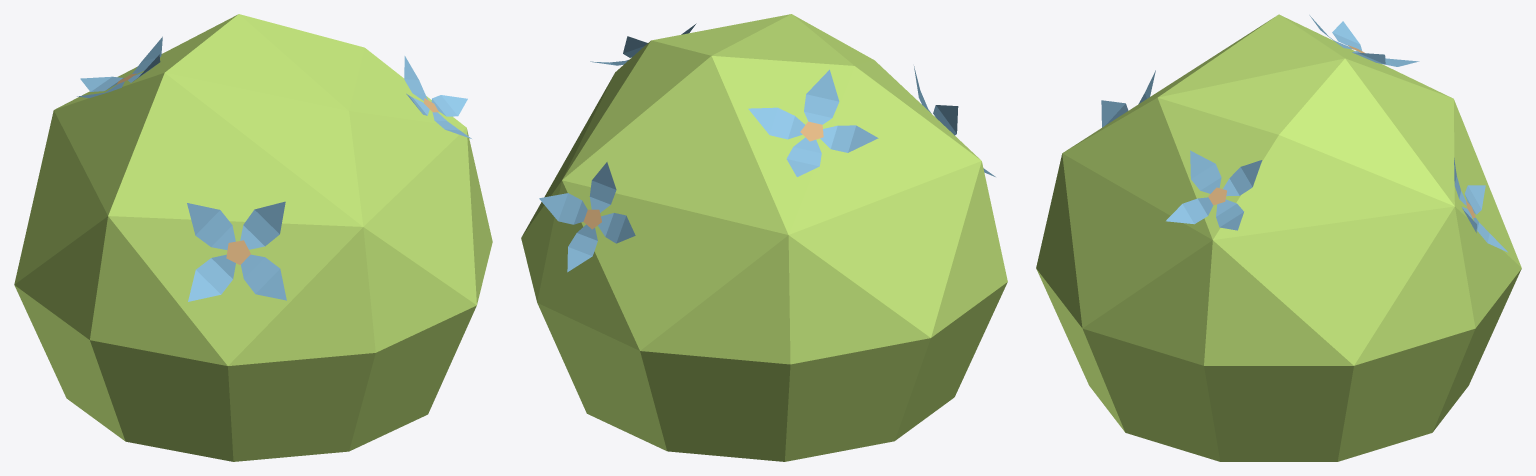
The model's file is FlowerBush_h_m_01.fbx.
3 views of the same model, side by side, from view 1: azimuth 30°, elevation 25°; view 2: azimuth 150°, elevation 25°; view 3: azimuth 270°, elevation 25° (orthographic). The views are drawn at different scales.
Parts seen in each view (by area): view 1: FlowerBush_h_m_01_LOD0; view 2: FlowerBush_h_m_01_LOD0; view 3: FlowerBush_h_m_01_LOD0.
Part boxes in pixels (x1,y1,x2,y2): FlowerBush_h_m_01_LOD0: [14, 14, 492, 461]; FlowerBush_h_m_01_LOD0: [521, 14, 1007, 461]; FlowerBush_h_m_01_LOD0: [1036, 14, 1521, 461].
Size of what is drawn, in the model's own units: 117 by 94.12 by 123.
